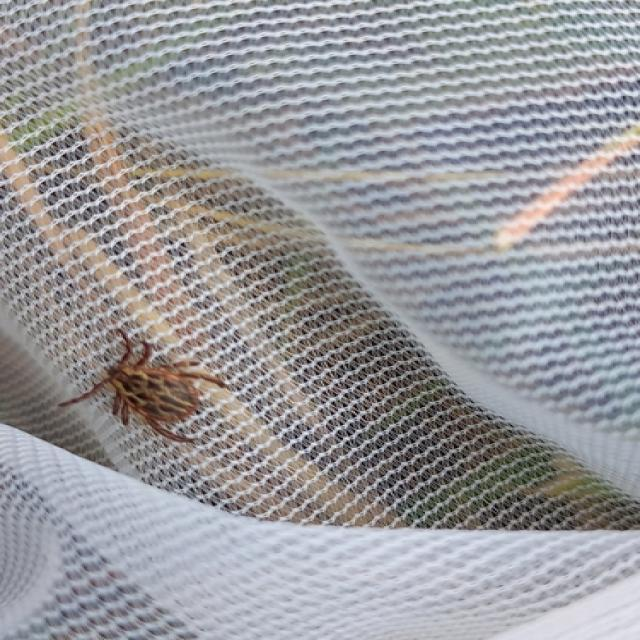Dermacentor Reticulatus-M: (58, 328, 230, 444)
